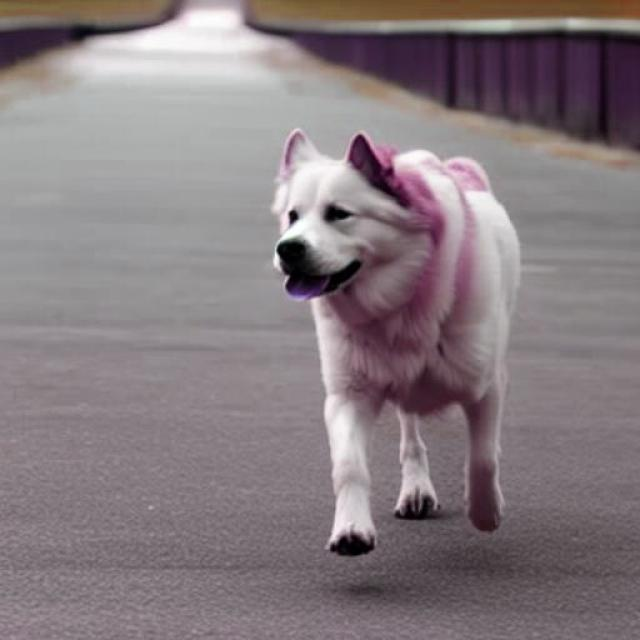Dog: (270, 127, 520, 555)
